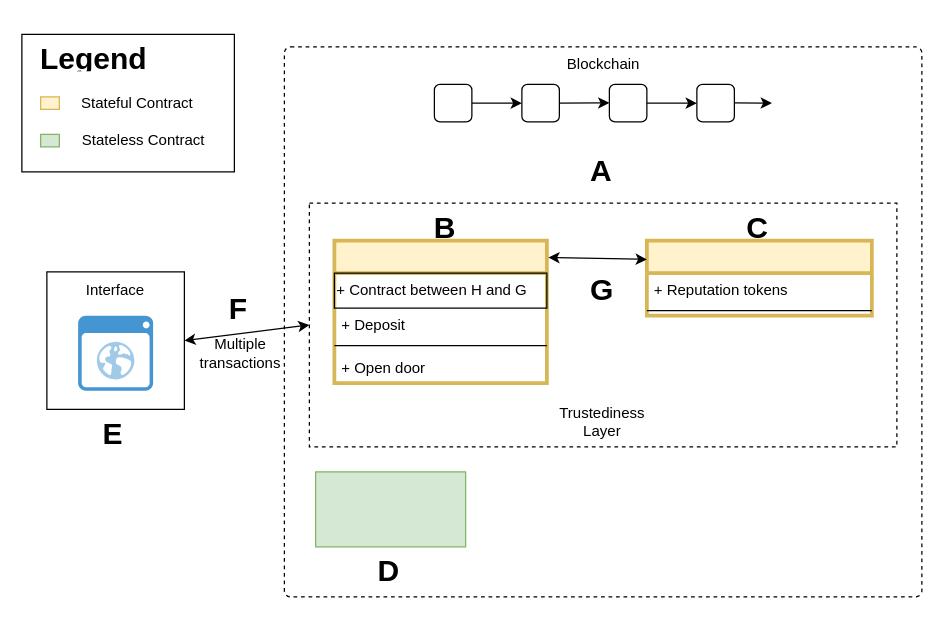
Some shapes in this 944 by 619 pixel diagram are drawn without their labels. The box of each missing label's shape, as (x1, y1, x2, y2) in pixels:
Rental Contract: (332, 238, 548, 384)
Reputation Contract: (644, 238, 873, 317)
